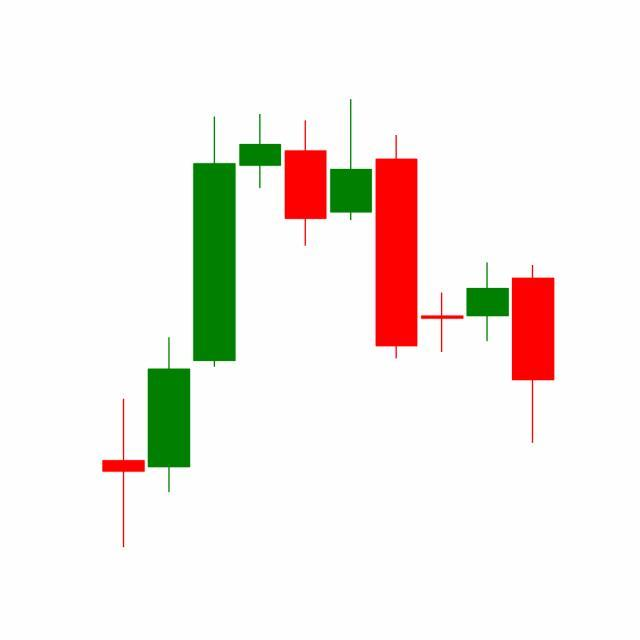Hikkake Pattern: (283, 100, 512, 363)
